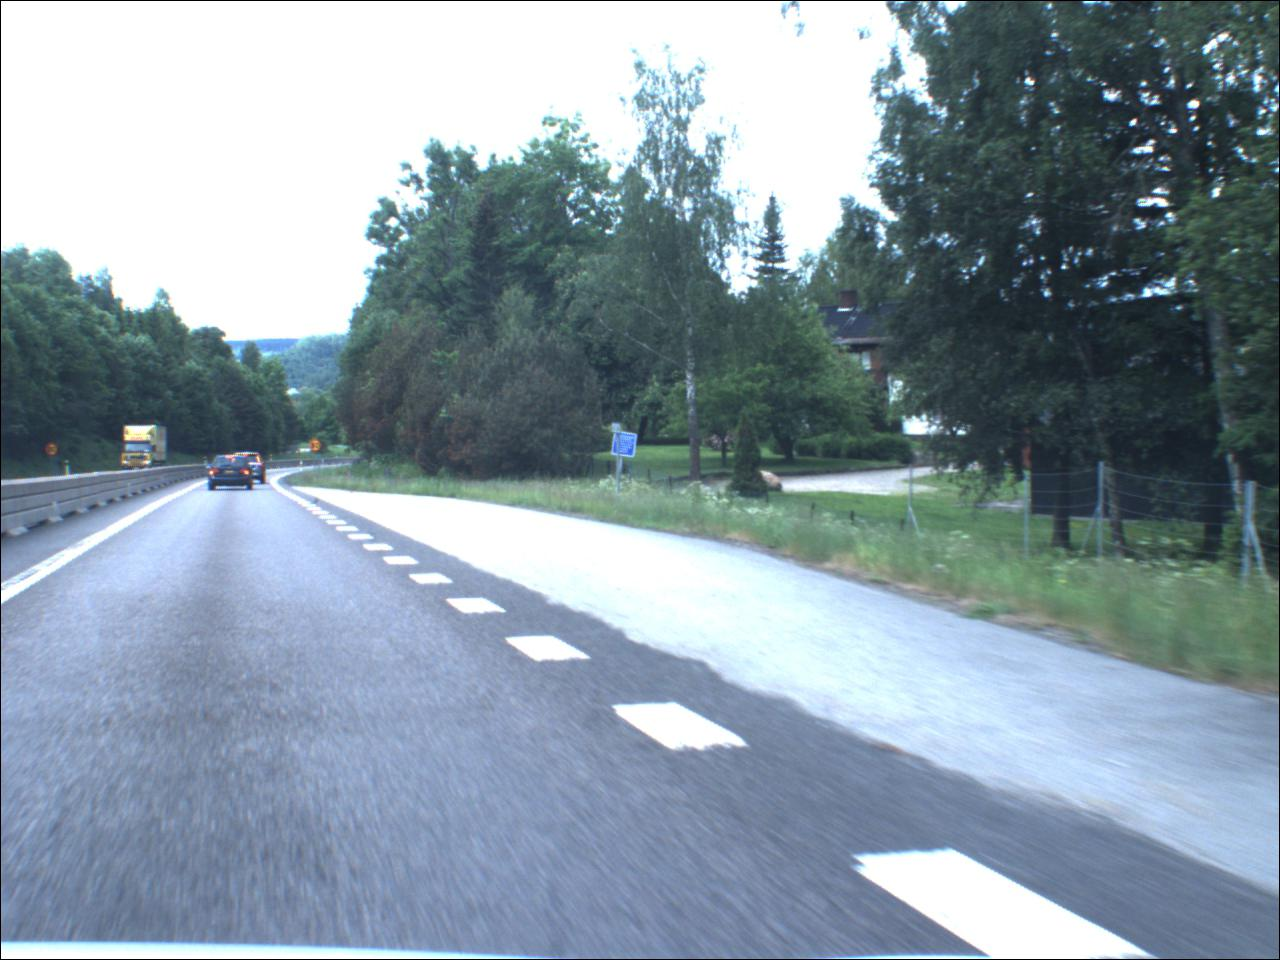80_SIGN: (46, 444, 61, 458), (311, 440, 325, 453)
